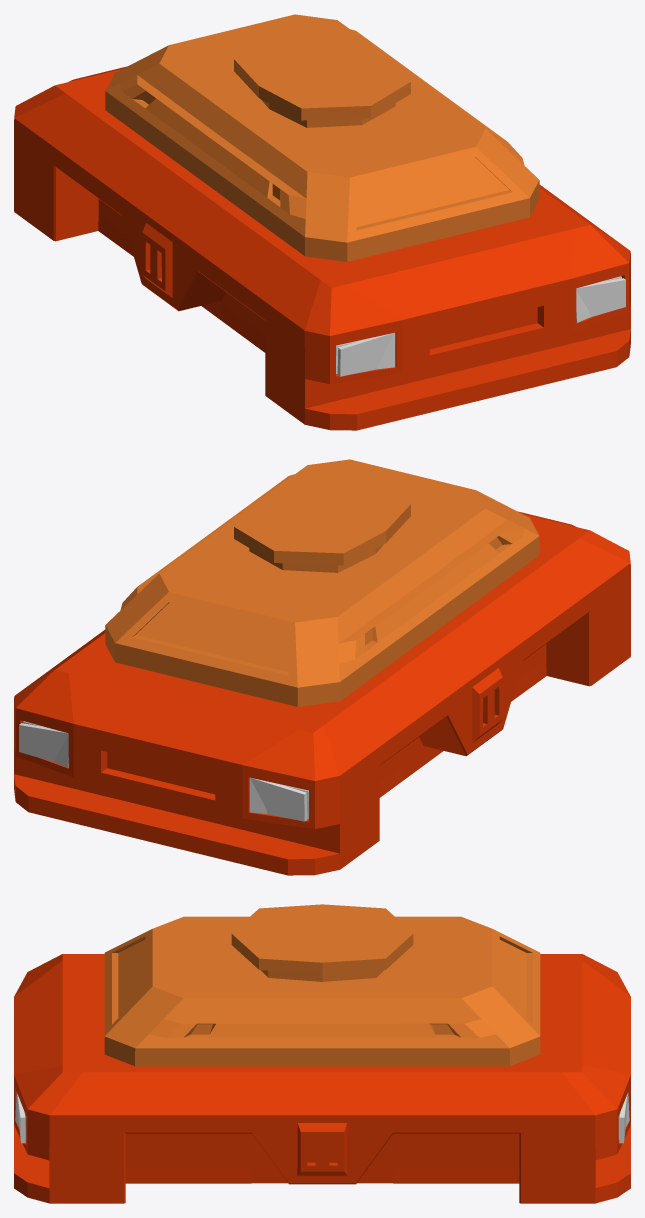
The model's file is TestCarBody.fbx.
3 renders of one model, top to bottom at view 1: azimuth 30°, elevation 25°; view 2: azimuth 150°, elevation 25°; view 3: azimuth 270°, elevation 25°, orthographic. The views are drawn at different scales.
Visible parts, largest first — view 1: Top.006; view 2: Top.006; view 3: Top.006.
Boxes of the visible parts, x1,y1,x2,y2 form: Top.006: [14, 14, 630, 430]; Top.006: [14, 459, 630, 875]; Top.006: [14, 904, 630, 1203].
Size of the model in its own units: 534 by 315 by 901.
